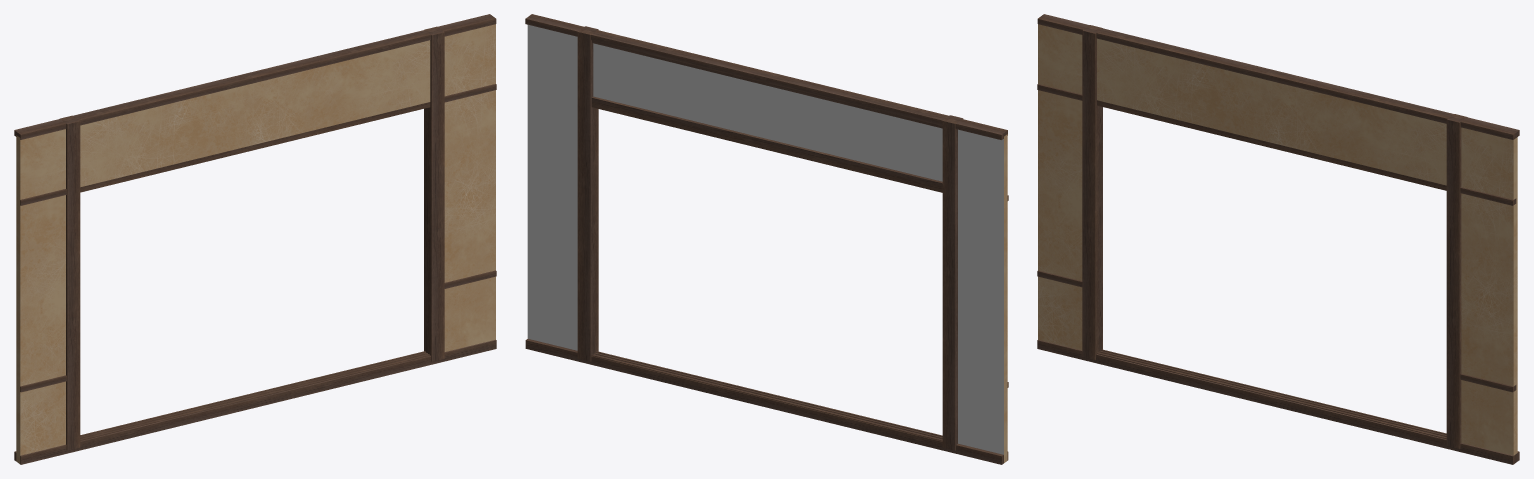
Rendered from jov_outwall01_2t_to_d1.fbx.
The picture shows the model from 3 angles, left to right: view 1: azimuth 30°, elevation 25°; view 2: azimuth 150°, elevation 25°; view 3: azimuth 330°, elevation 25°; orthographic projection.
Parts seen in each view (by area): view 1: jov_outwall01_2t_to_d1; view 2: jov_outwall01_2t_to_d1; view 3: jov_outwall01_2t_to_d1.
Boxes of the visible parts, x1=… form: jov_outwall01_2t_to_d1: x1=14, y1=14, x2=496, y2=464; jov_outwall01_2t_to_d1: x1=525, y1=14, x2=1008, y2=464; jov_outwall01_2t_to_d1: x1=1037, y1=14, x2=1519, y2=464.
Size of the model in its own units: 440 by 292 by 12.44.
